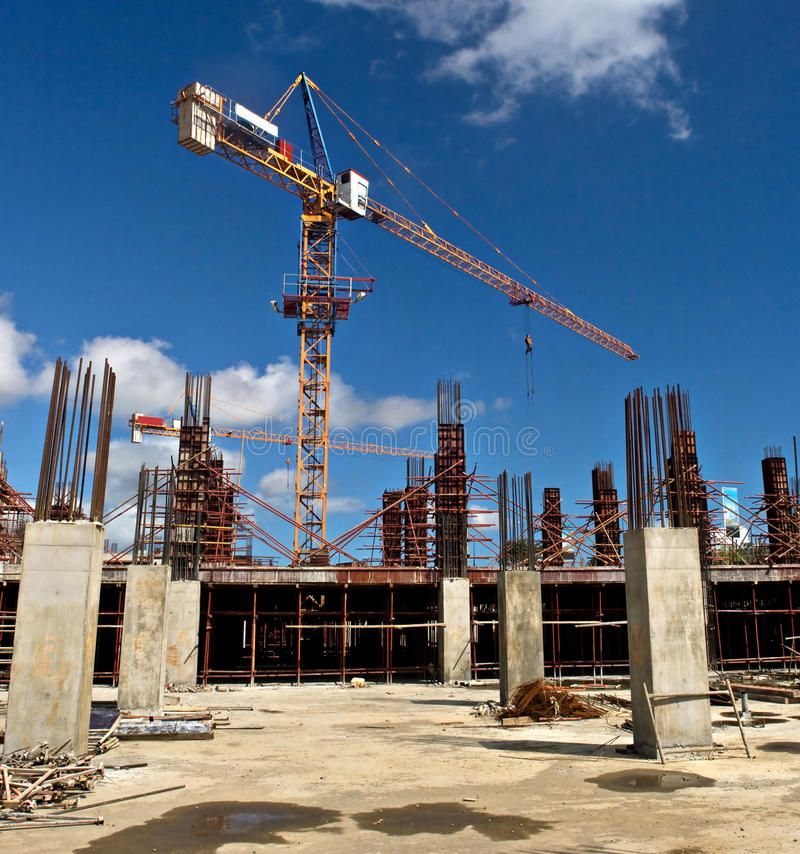crane: (133, 56, 689, 620), (118, 384, 476, 632)
